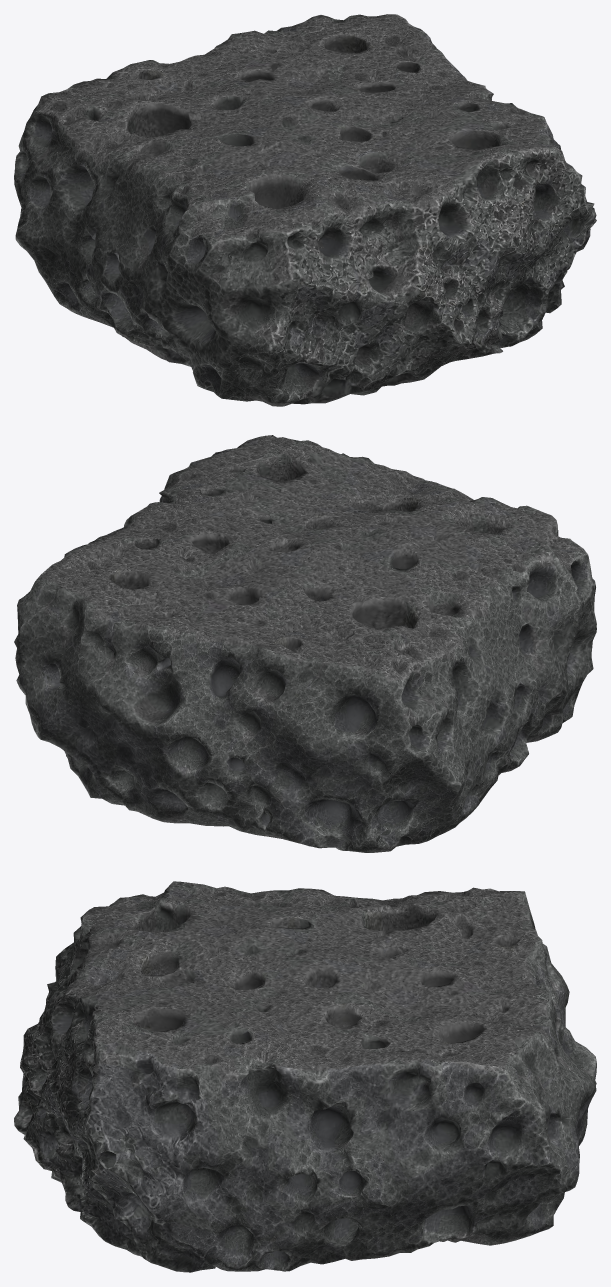
File: rock-basalt-porous.glb
The picture shows the model from 3 angles, top to bottom: view 1: azimuth 30°, elevation 25°; view 2: azimuth 150°, elevation 25°; view 3: azimuth 270°, elevation 25°; orthographic projection. The views are drawn at different scales.
Size of the model in its own units: 0.8867 by 0.4175 by 0.9556.
1 material, 1 textured.
